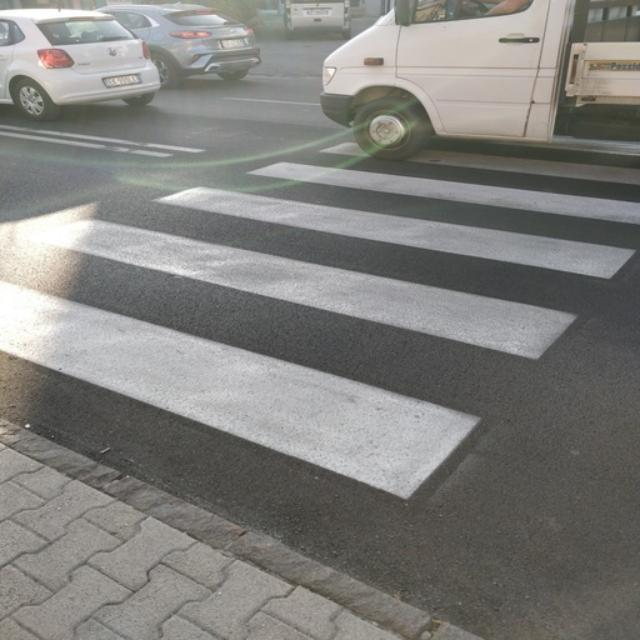sidewalk: (0, 126, 640, 575)
